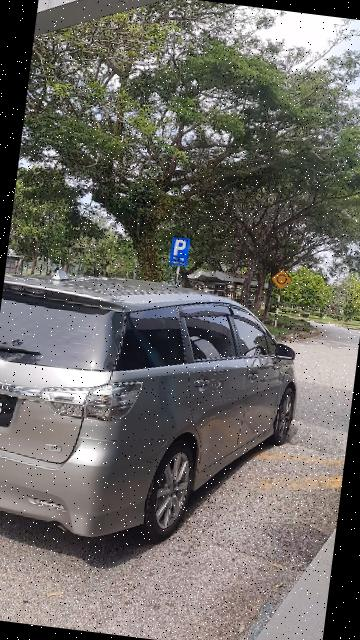car: (1, 261, 323, 576)
